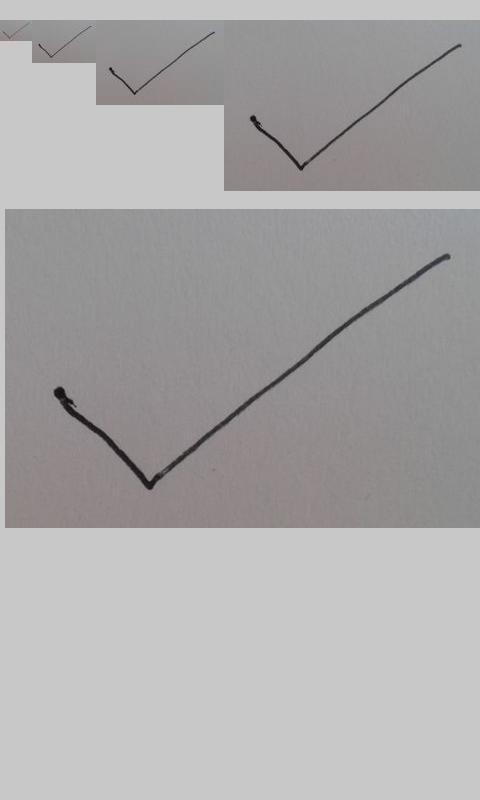check_box: (52, 253, 450, 491), (251, 44, 463, 170), (108, 32, 215, 95), (38, 26, 91, 58), (3, 23, 29, 39)
